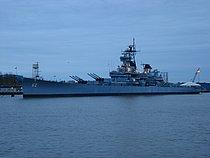MIL_Ship: (17, 37, 205, 97)
